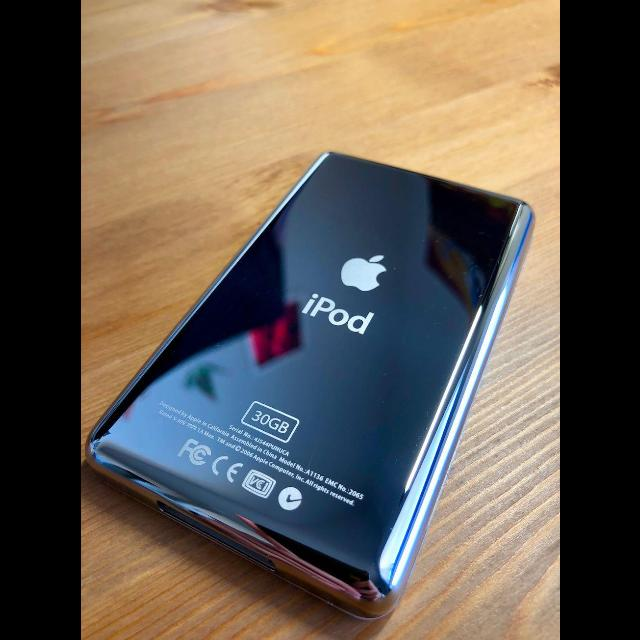Music-Player: (84, 135, 550, 627)
